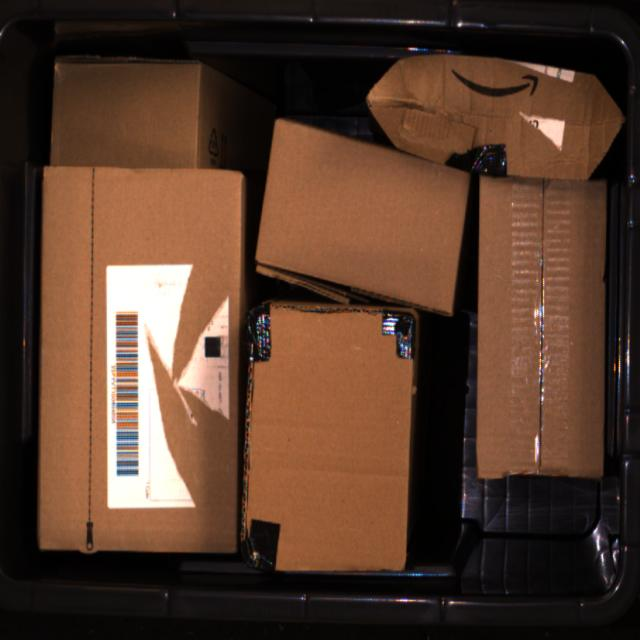Cardboard Box: (36, 160, 247, 557), (243, 294, 422, 575), (253, 113, 473, 316), (475, 171, 608, 480), (365, 48, 625, 179), (48, 51, 270, 169)
